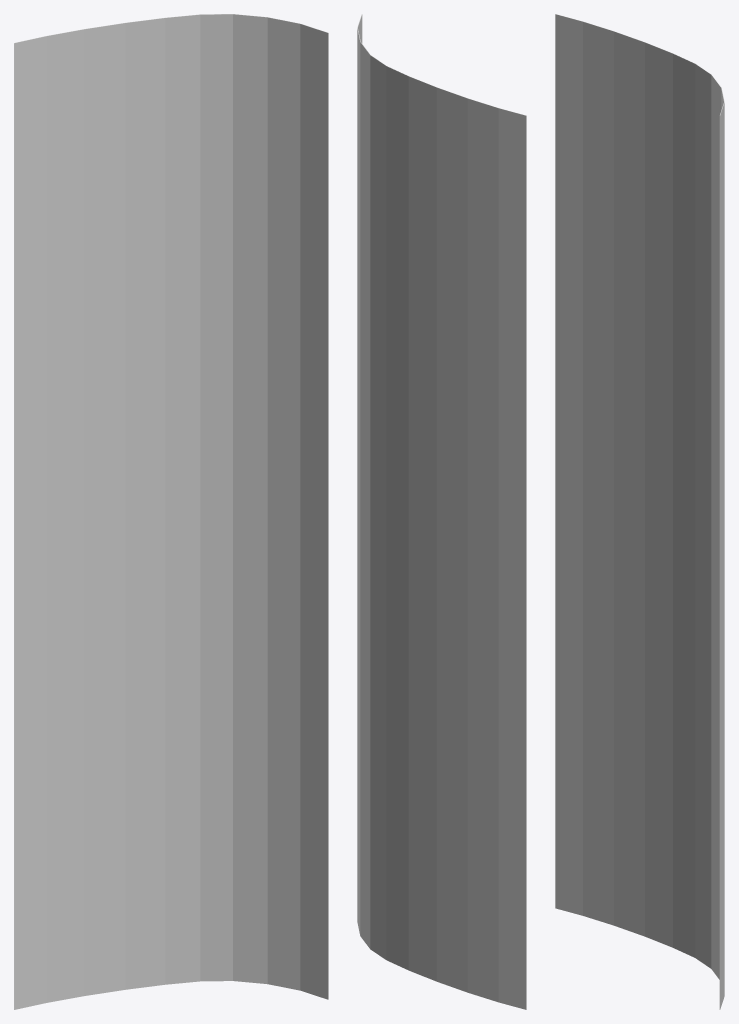
The model's file is curva 3.fbx.
3 renders of one model, left to right at view 1: azimuth 30°, elevation 25°; view 2: azimuth 150°, elevation 25°; view 3: azimuth 330°, elevation 25°, orthographic. The views are drawn at different scales.
Parts seen in each view (by area): view 1: Paredes nivel 1.001; view 2: Paredes nivel 1.001; view 3: Paredes nivel 1.001.
Boxes of the visible parts, x1,y1,x2,y2 form: Paredes nivel 1.001: (14,14,328,1009); Paredes nivel 1.001: (357,14,526,1009); Paredes nivel 1.001: (555,14,724,1009).
Bounding box in the file's own units: 123 × 462 × 59.29.
1 material, 1 textured.
